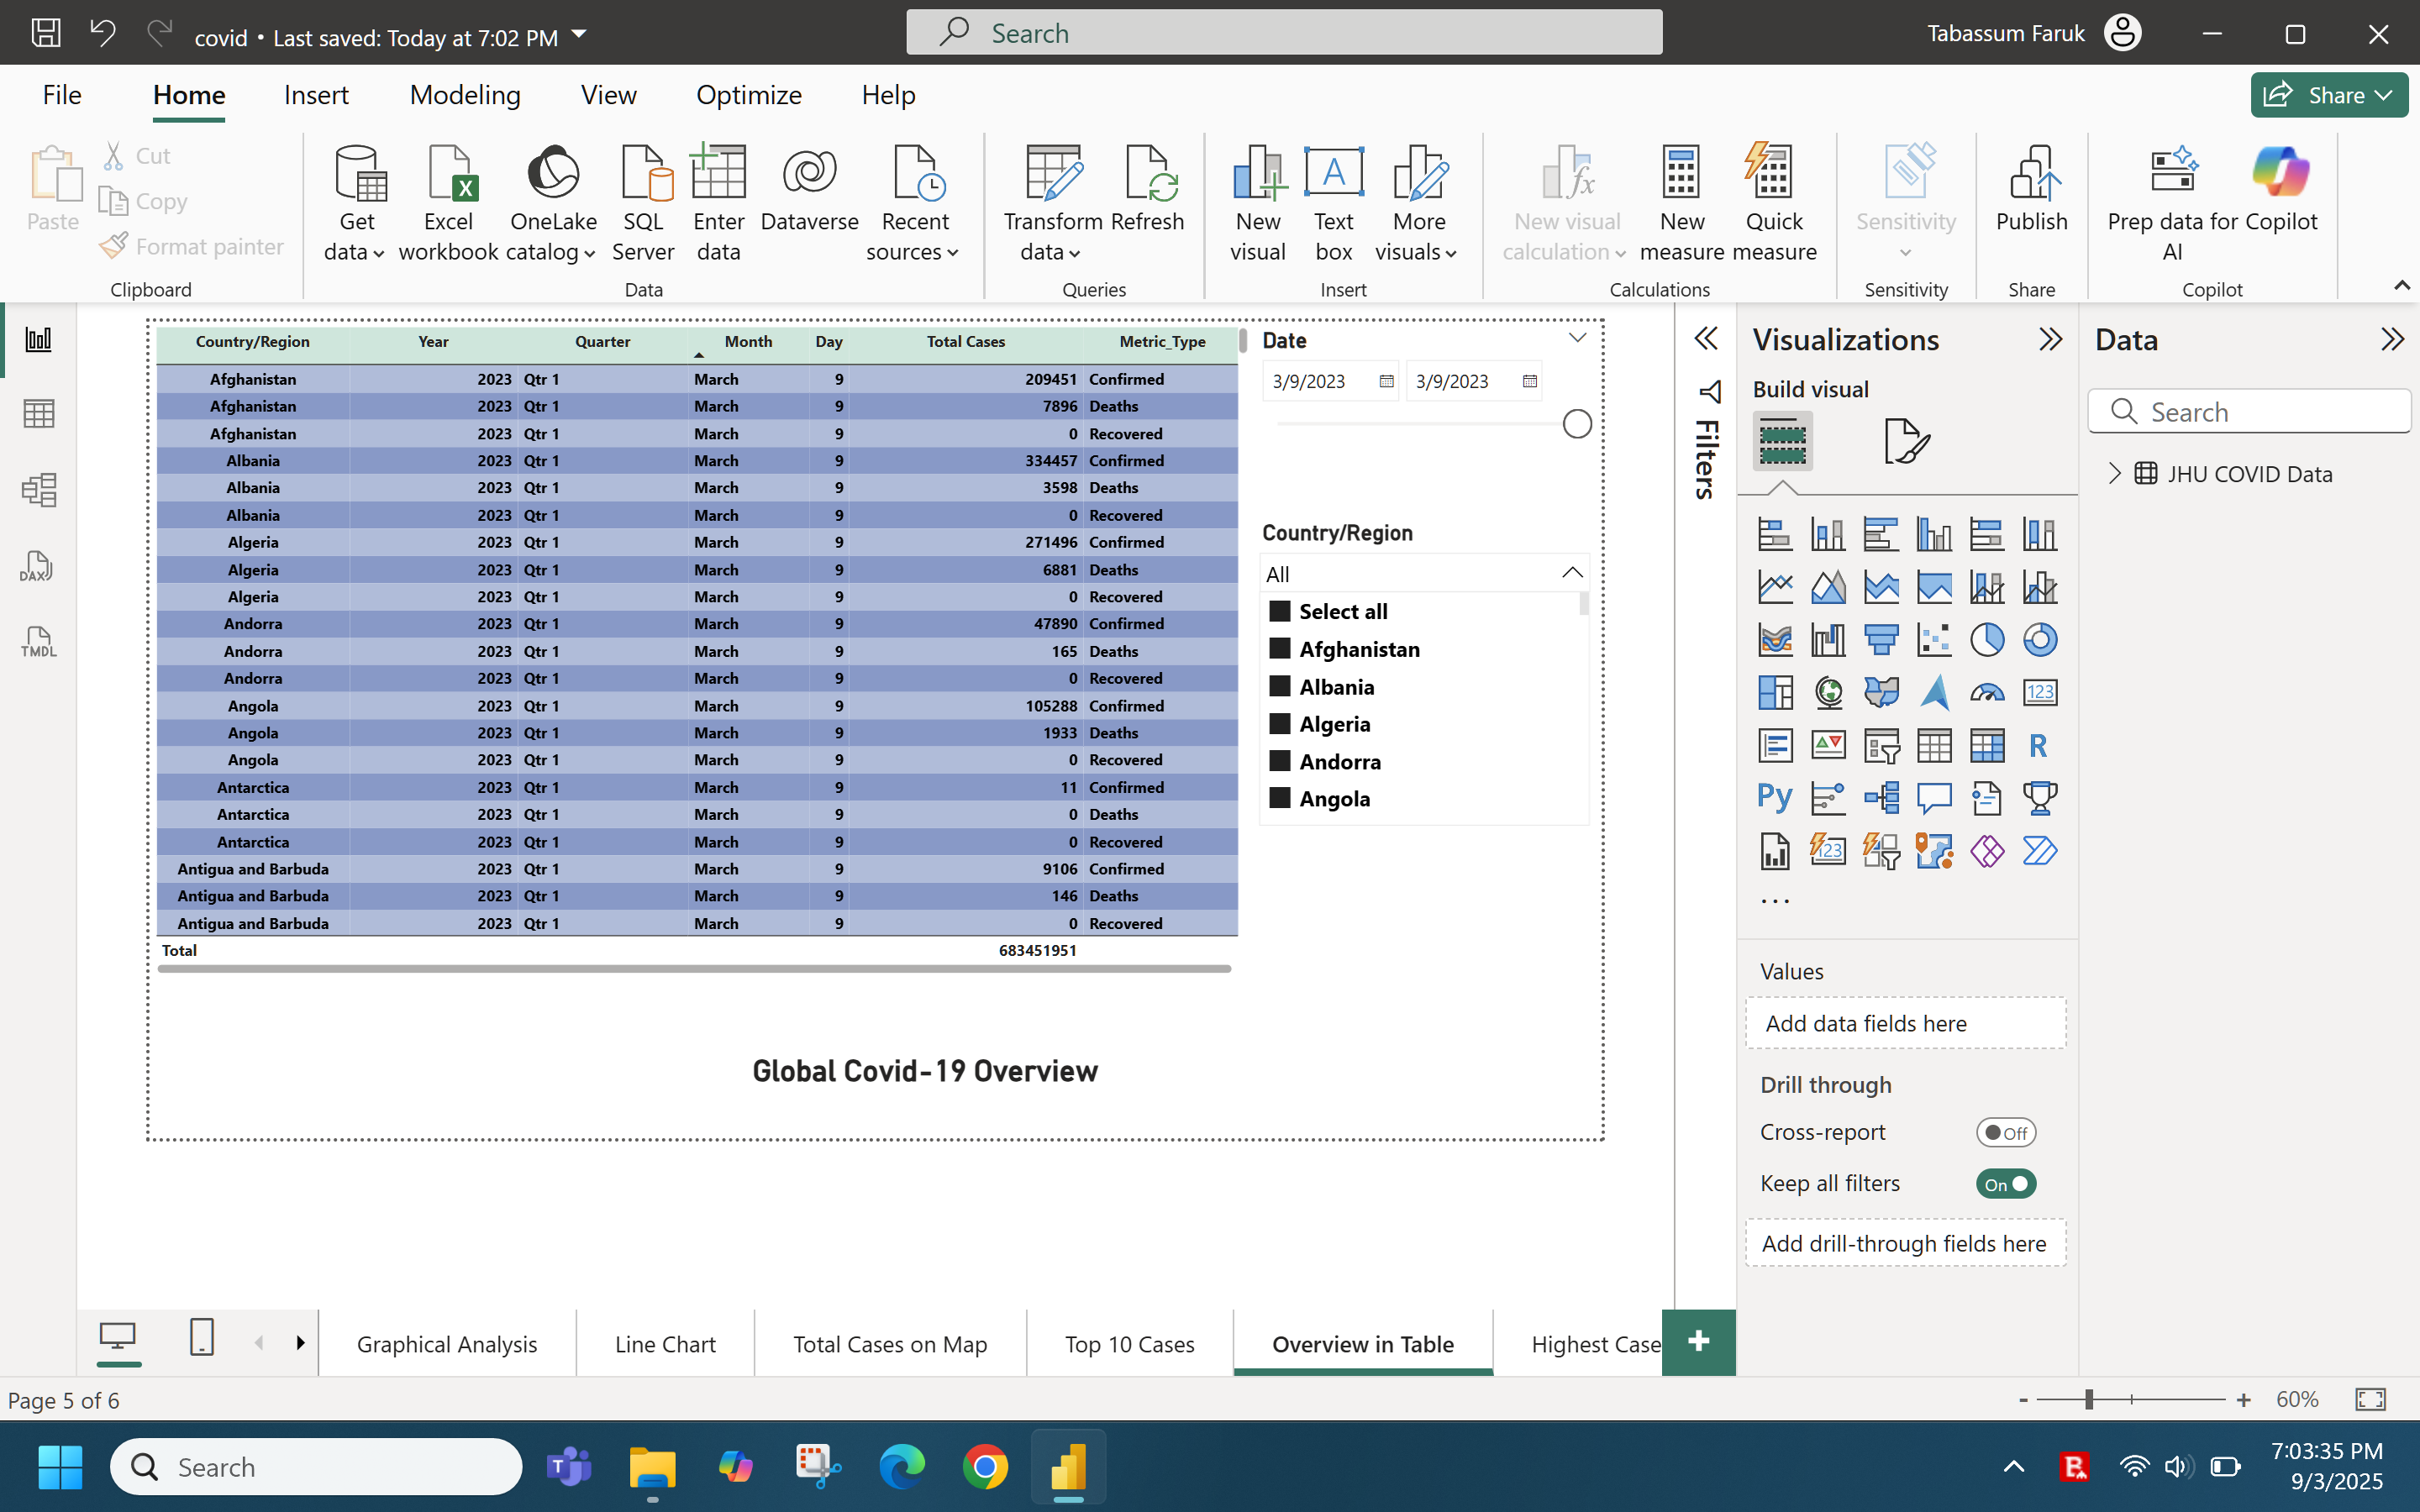

The page's visual inventory and layout, read from the dashboard file:
{"tool":"powerbi","page":{"name":"Overview in Table","canvas":[1280,720],"ordinal":4},"visuals":[{"type":"tableEx","fields":{"Values":["JHU COVID Data.Country/Region","JHU COVID Data.Date.Variation.Date Hierarchy.Year","JHU COVID Data.Date.Variation.Date Hierarchy.Quarter","JHU COVID Data.Date.Variation.Date Hierarchy.Month","JHU COVID Data.Date.Variation.Date Hierarchy.Day","JHU COVID Data.Total Cases","JHU COVID Data.Metric_Type"]},"box":[0,0,973.3,580],"z":0},{"type":"textbox","title":"Global Covid-19 Overview","box":[381.7,645,605,75],"z":1000},{"type":"slicer","fields":{"Values":["JHU COVID Data.Country/Region"]},"box":[968.3,170,311.7,135],"z":2000},{"type":"slicer","fields":{"Values":["JHU COVID Data.Date"]},"box":[968.3,0,311.7,170],"z":3000}]}

Visuals, with their boxes on the page's 1280x720 design canvas (x1, y1, x2, y2). These are canvas units, not pixel positions in the 2420x1512 screenshot, which may show the page scaled, cropped or inside an application window:
tableEx - JHU COVID Data.Country/Region x JHU COVID Data.Date.Variation.Date Hierarchy.Year: crop(0, 0, 973, 580)
"Global Covid-19 Overview" textbox: crop(382, 645, 987, 720)
slicer - JHU COVID Data.Country/Region: crop(968, 170, 1280, 305)
slicer - JHU COVID Data.Date: crop(968, 0, 1280, 170)
